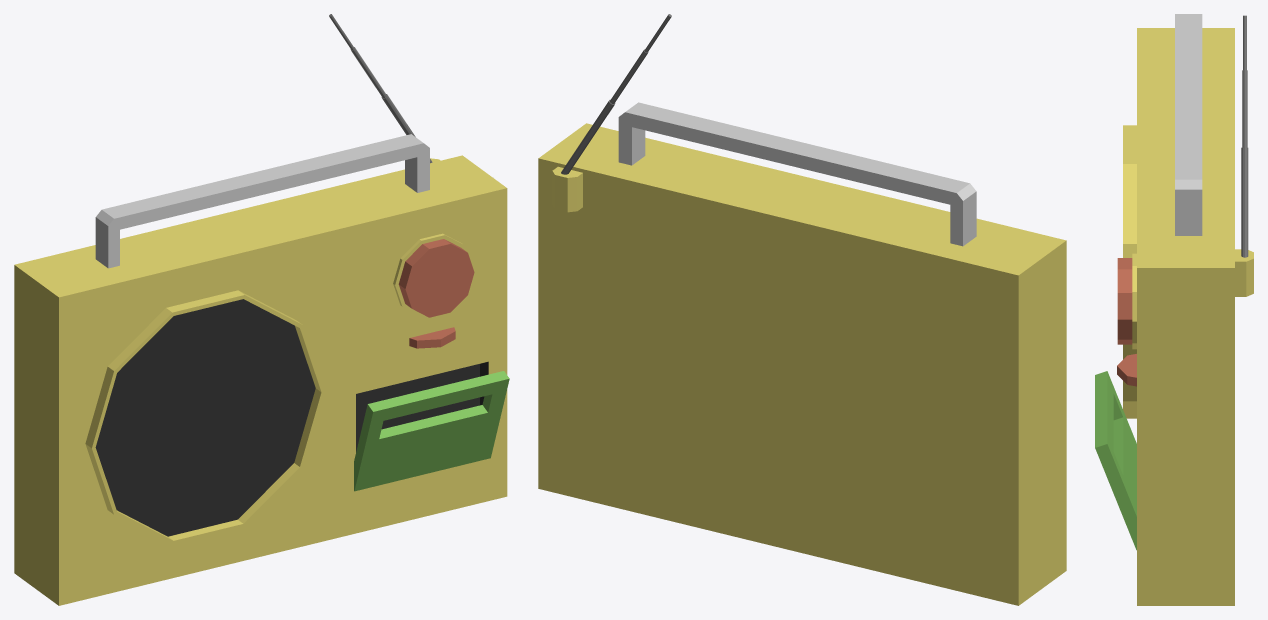
Rendered from Radio.fbx.
The picture shows the model from 3 angles, left to right: view 1: azimuth 30°, elevation 25°; view 2: azimuth 150°, elevation 25°; view 3: azimuth 270°, elevation 25°; orthographic projection. The views are drawn at different scales.
Visible parts, largest first — view 1: Main1, Speaker, CasetteHolder, Handle1, Dial, Attena, Slider; view 2: Main1, Handle1, Attena; view 3: Main1, Handle1, CasetteHolder, Speaker, Dial, Attena, Slider.
Part boxes in pixels (x1=…): Main1: x1=14, y1=155, x2=507, y2=605; Speaker: x1=85, y1=290, x2=325, y2=544; CasetteHolder: x1=354, y1=371, x2=509, y2=491; Handle1: x1=95, y1=134, x2=429, y2=268; Dial: x1=393, y1=233, x2=474, y2=317; Attena: x1=329, y1=14, x2=432, y2=163; Slider: x1=409, y1=327, x2=455, y2=348; Main1: x1=538, y1=123, x2=1066, y2=605; Handle1: x1=618, y1=102, x2=976, y2=246; Attena: x1=561, y1=14, x2=671, y2=174; Main1: x1=1137, y1=28, x2=1253, y2=605; Handle1: x1=1175, y1=14, x2=1202, y2=235; CasetteHolder: x1=1095, y1=371, x2=1136, y2=550; Speaker: x1=1123, y1=125, x2=1136, y2=418; Dial: x1=1117, y1=253, x2=1136, y2=349; Attena: x1=1241, y1=15, x2=1248, y2=257; Slider: x1=1117, y1=354, x2=1136, y2=386.
Size of the model in its own units: 0.8585 by 0.8733 by 0.2403.
